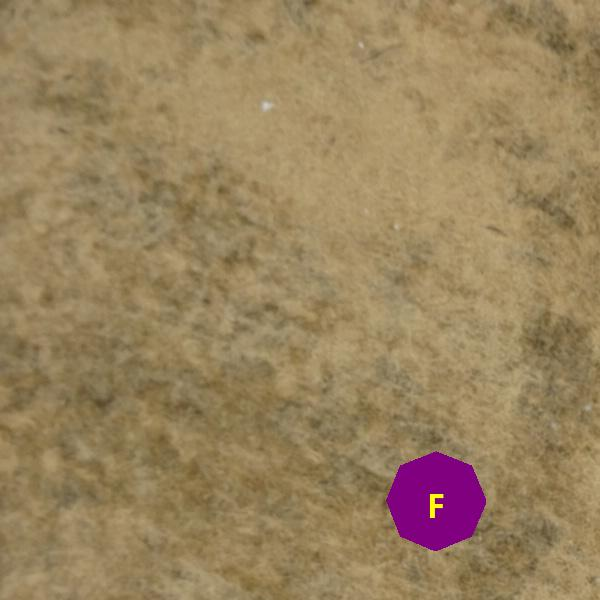Octagon: (386, 451, 486, 551)
